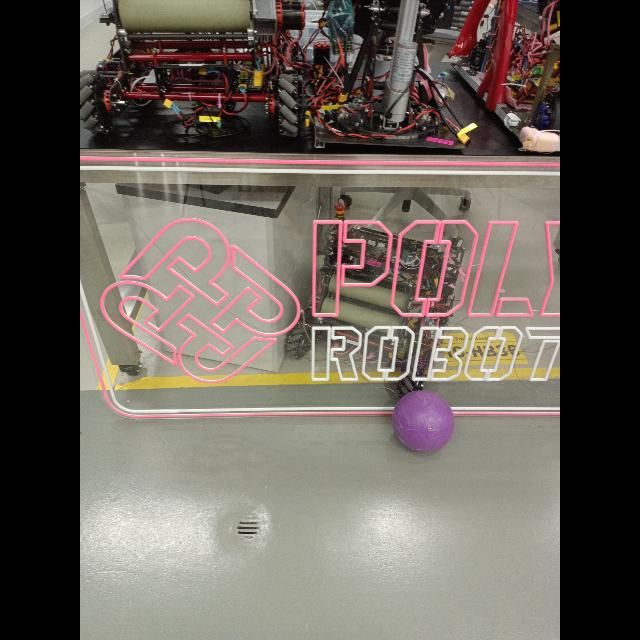P: (392, 390, 452, 452)
